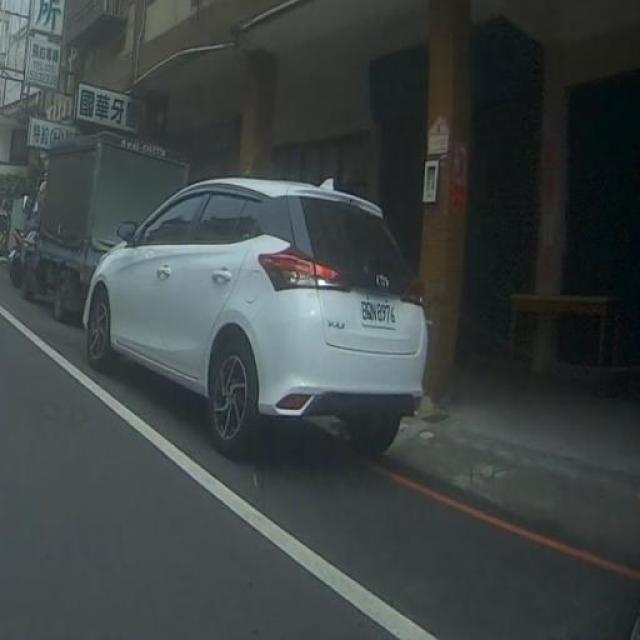illegalparking: (84, 178, 429, 458)
